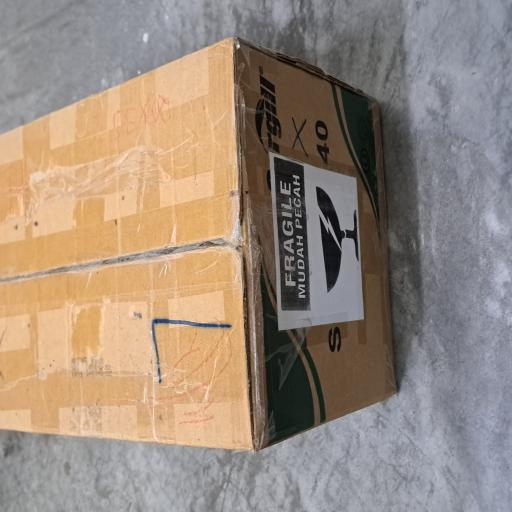cardboard: (47, 0, 355, 512)
